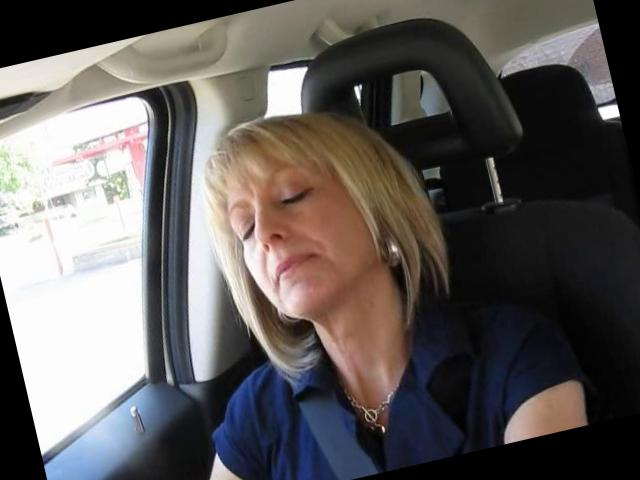eye_closed: (266, 172, 322, 222), (231, 211, 260, 248)
face: (209, 147, 378, 334)
